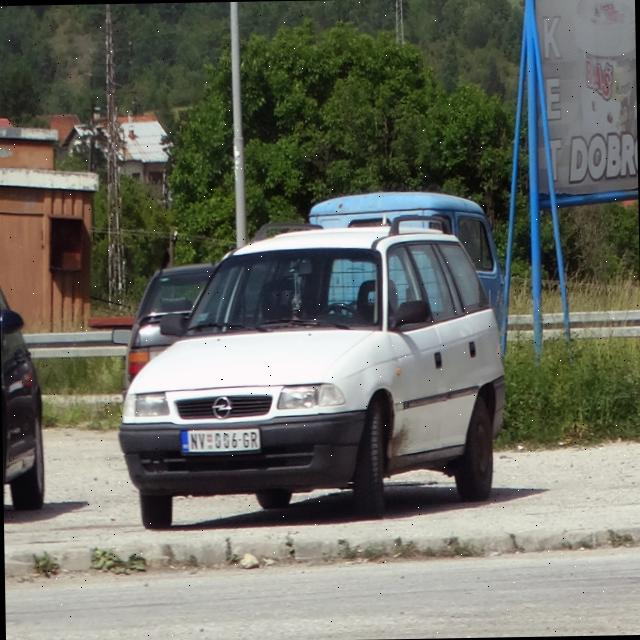License-plate: (179, 428, 260, 456)
